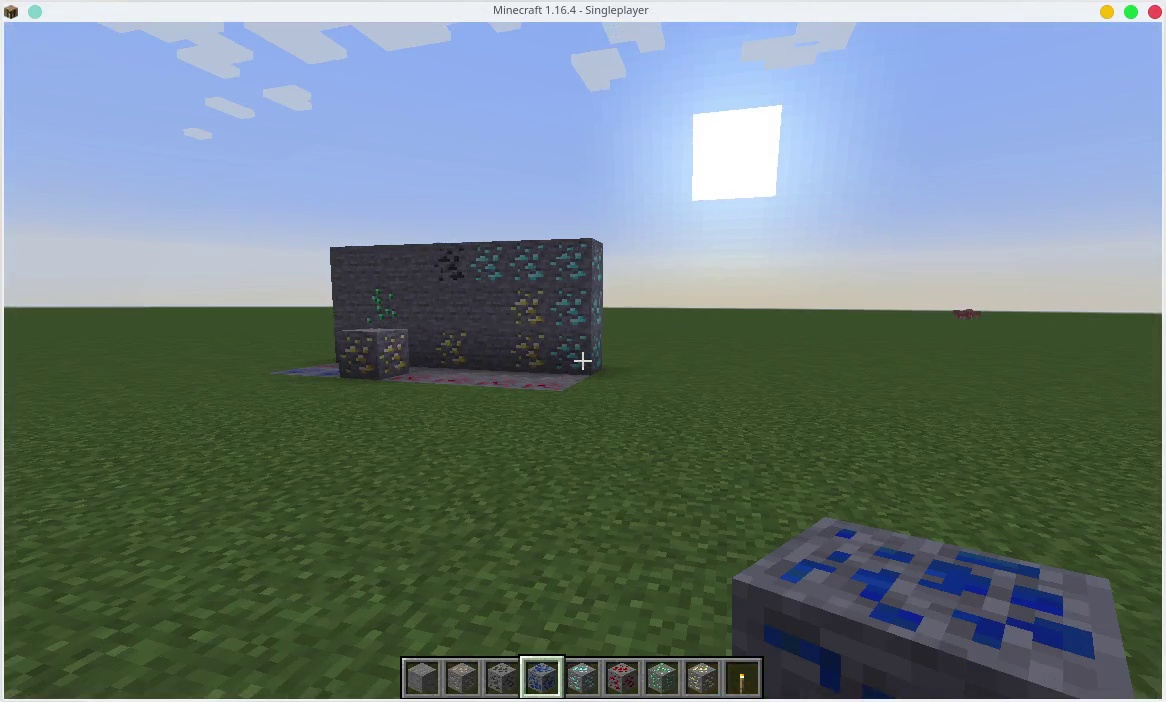gold: (344, 331, 406, 379), (512, 331, 547, 373), (430, 336, 472, 367), (511, 290, 545, 325), (686, 663, 721, 696)
